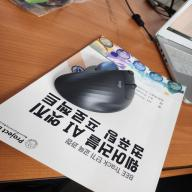Mouse: (55, 60, 136, 114)
